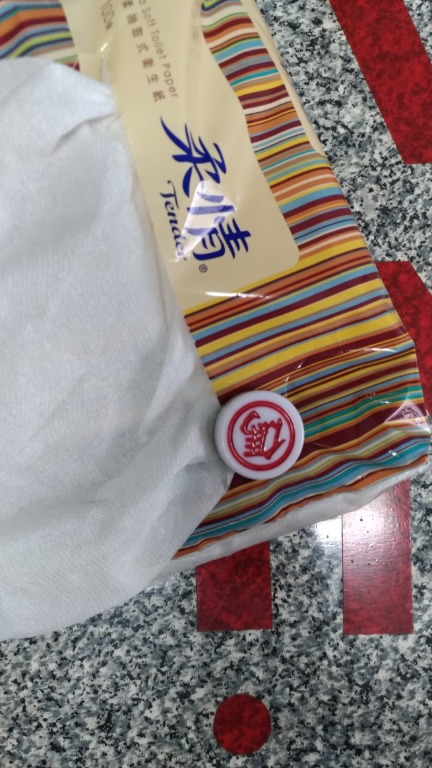r-knight: (207, 385, 327, 487)
